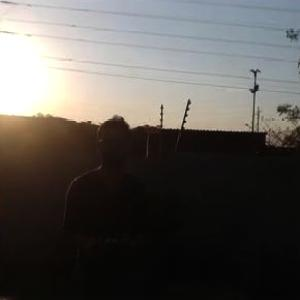follow: (54, 109, 155, 299)
